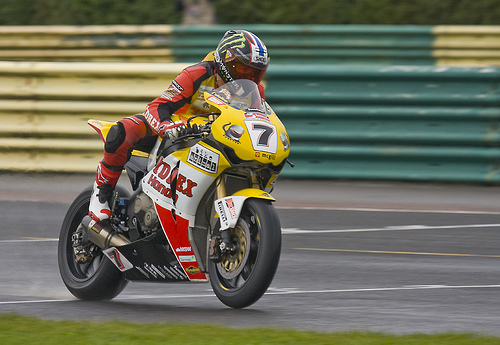helmet: (218, 31, 266, 84)
